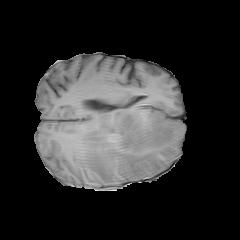glioma: (73, 109, 176, 183)
